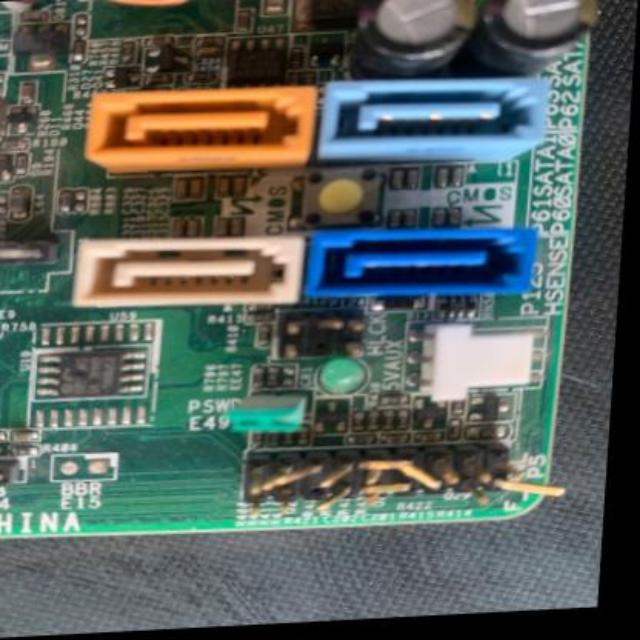PCB: (3, 1, 603, 572)
